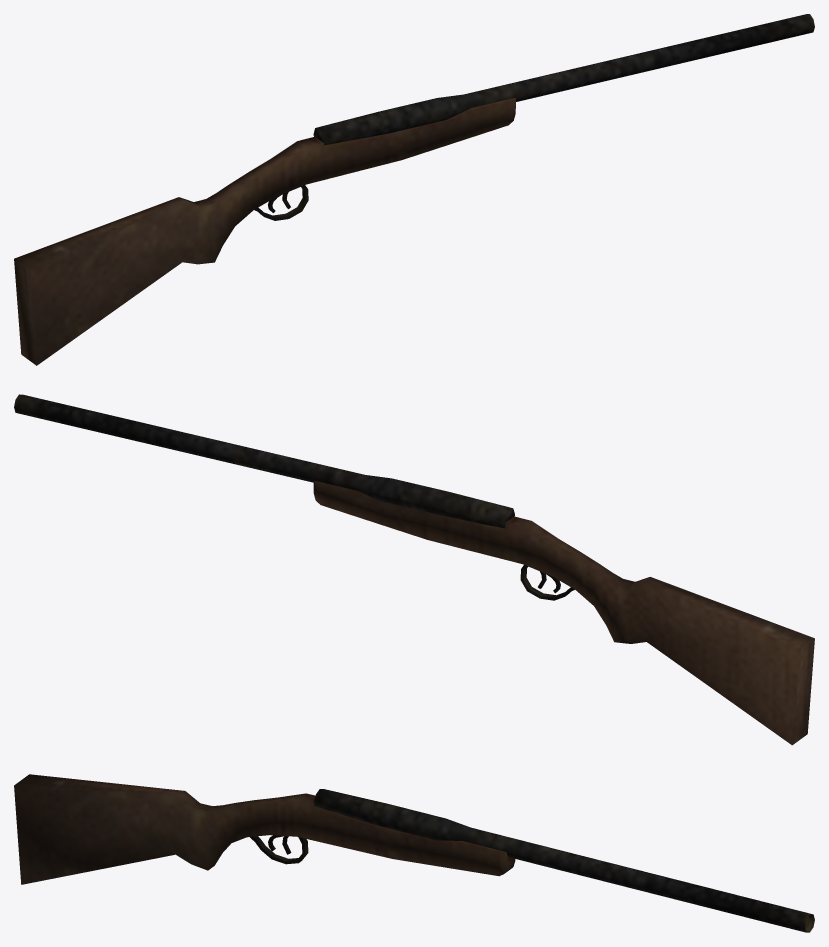
The model's file is ShotgunDummy.FBX.
3 views of the same model, one above another, from view 1: azimuth 30°, elevation 25°; view 2: azimuth 150°, elevation 25°; view 3: azimuth 330°, elevation 25° (orthographic).
Parts seen in each view (by area): view 1: ShotgunDummy; view 2: ShotgunDummy; view 3: ShotgunDummy.
Part boxes in pixels (left/top/right/bottom): ShotgunDummy: left=14, top=14, right=814, bottom=365; ShotgunDummy: left=14, top=394, right=814, bottom=745; ShotgunDummy: left=14, top=774, right=814, bottom=932.
Size of the model in its own units: 118 by 23.05 by 4.
